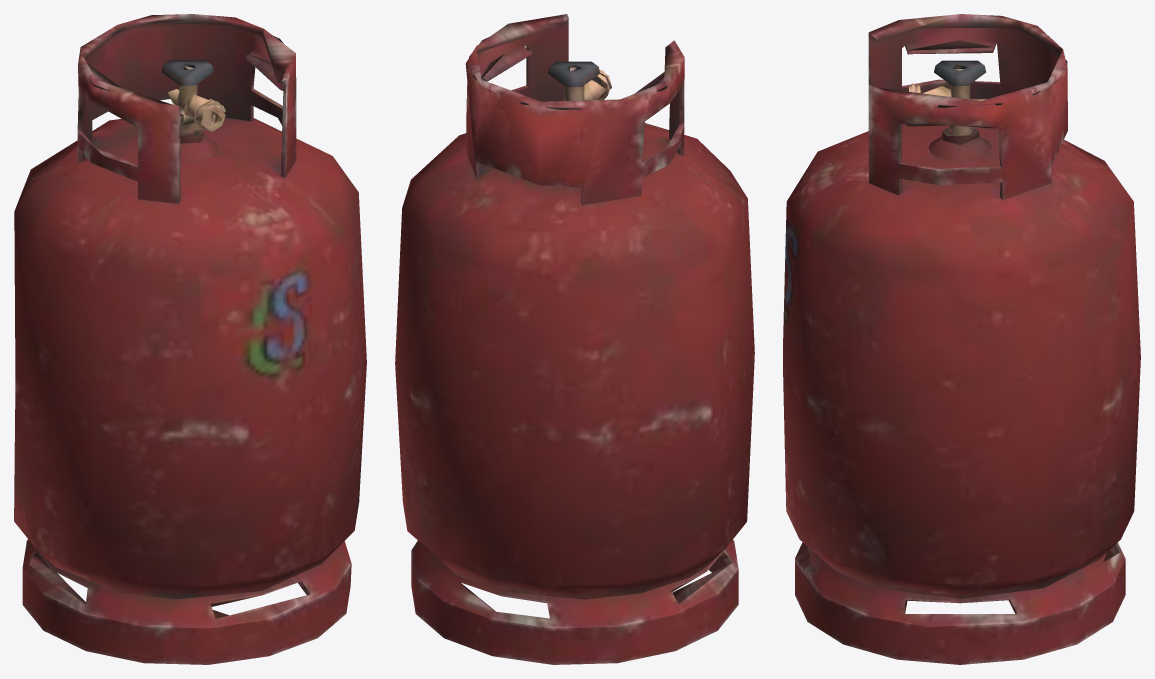
The model's file is propane_tank.glb.
3 views of the same model, side by side, from view 1: azimuth 30°, elevation 25°; view 2: azimuth 150°, elevation 25°; view 3: azimuth 270°, elevation 25° (orthographic).
Visible parts, largest first — view 1: propane_tank; view 2: propane_tank; view 3: propane_tank.
Part boxes in pixels (left/top/right/bottom): propane_tank: left=14, top=14, right=366, bottom=664; propane_tank: left=395, top=14, right=754, bottom=664; propane_tank: left=783, top=14, right=1140, bottom=664.
Size of the model in its own units: 0.3309 by 0.5534 by 0.3341.
Materials: 1 (1 with a texture image).
